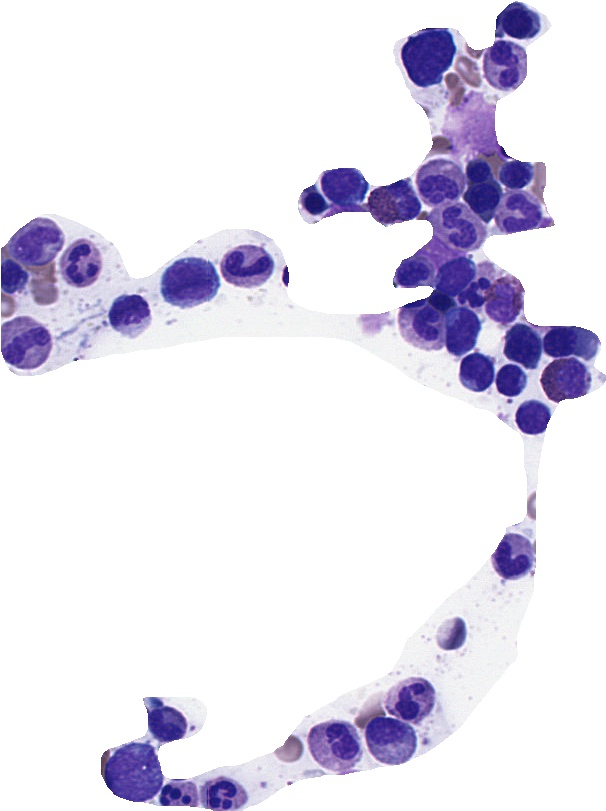objectness: (496, 189, 546, 239), (384, 673, 434, 723), (395, 301, 445, 351), (221, 243, 271, 293), (412, 158, 462, 208), (55, 238, 105, 288), (481, 40, 531, 90), (434, 202, 484, 252), (309, 719, 359, 769), (362, 710, 412, 760), (539, 356, 589, 406), (366, 177, 416, 227), (479, 276, 529, 326), (140, 699, 190, 749), (484, 533, 534, 583), (9, 215, 59, 265), (110, 749, 160, 799), (403, 30, 453, 80), (436, 302, 486, 352), (105, 289, 155, 339), (414, 224, 464, 274), (429, 248, 479, 298), (453, 99, 503, 149), (387, 248, 437, 298), (166, 256, 216, 306), (319, 160, 369, 210), (485, 358, 535, 408), (505, 390, 555, 440), (449, 346, 499, 396), (540, 317, 590, 367), (459, 173, 509, 223), (452, 144, 502, 194), (498, 319, 548, 369), (0, 322, 48, 372), (491, 0, 541, 47), (151, 769, 201, 811), (197, 770, 247, 811), (0, 249, 35, 299)
